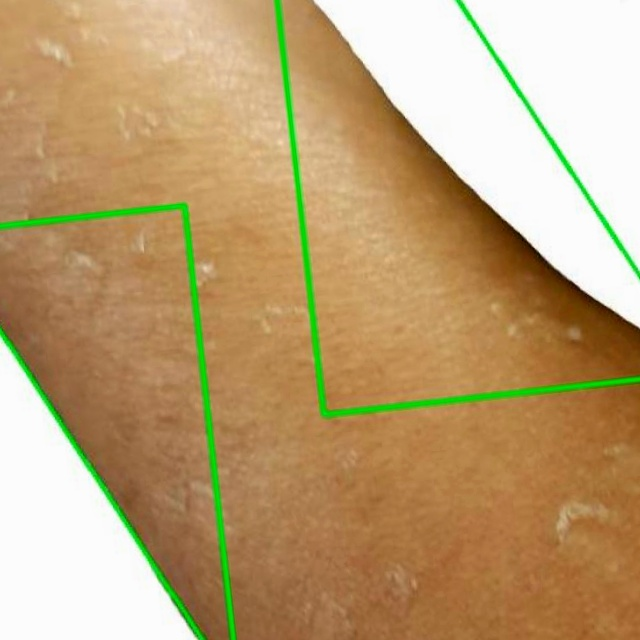Tinea Corporis: (0, 0, 639, 639), (277, 0, 639, 414), (0, 205, 233, 639)
